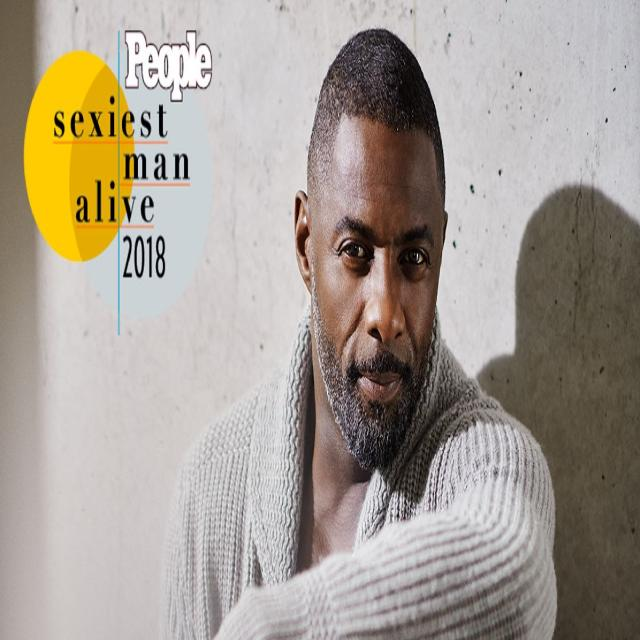human: (165, 37, 558, 640)
